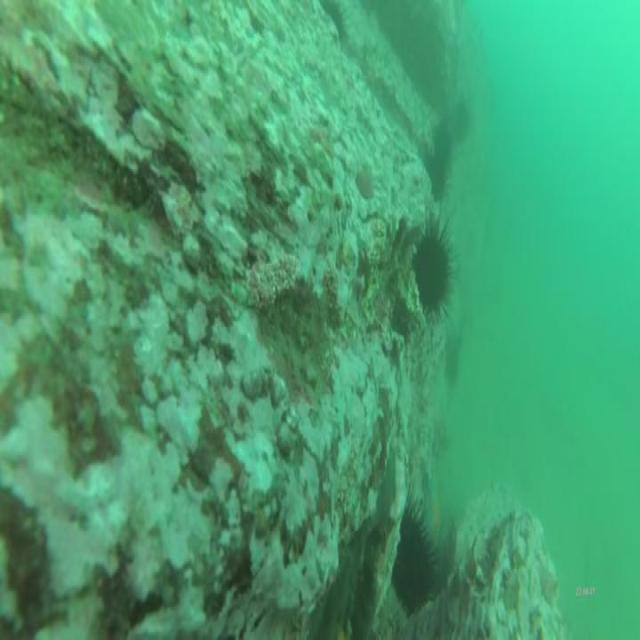echinus: (390, 495, 441, 616), (413, 208, 455, 320), (419, 144, 449, 202), (317, 0, 346, 55), (435, 114, 456, 186), (449, 95, 470, 150)
